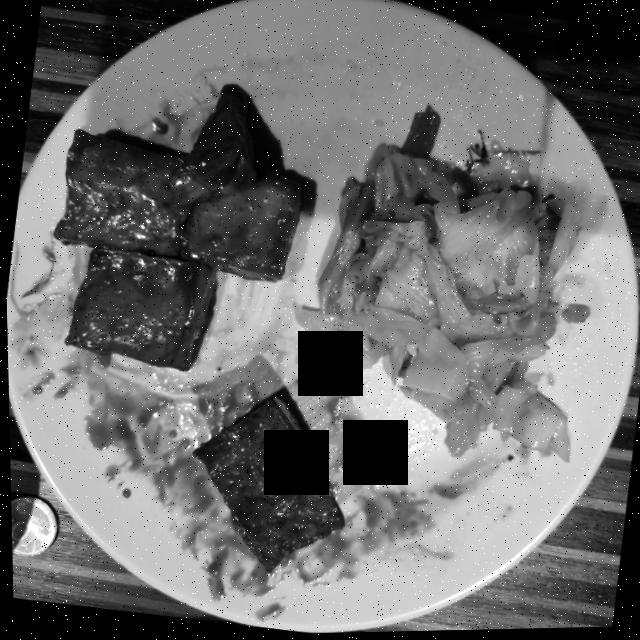cabbage: (294, 146, 578, 462)
coin: (9, 495, 55, 555)
creamy tofu: (53, 85, 301, 371)
egg tofu: (192, 398, 342, 573)
